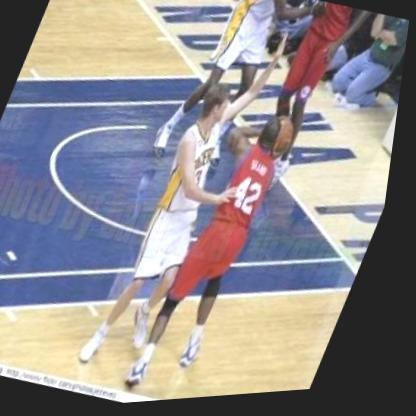basketball: (259, 114, 310, 170)
